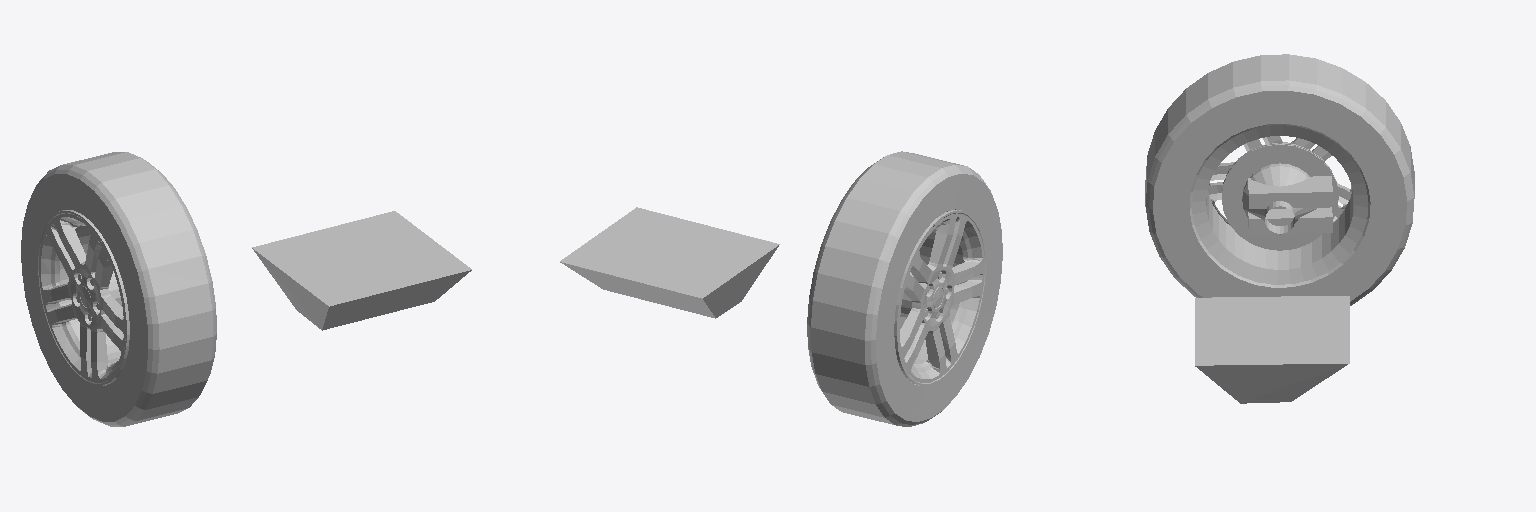
File: BackRight_Truck.obj
The picture shows the model from 3 angles: view 1: azimuth 30°, elevation 25°; view 2: azimuth 150°, elevation 25°; view 3: azimuth 270°, elevation 25°; orthographic projection.
Parts seen in each view (by area): view 1: HintenRechts_uploads_files_862940_silverado.005; view 2: HintenRechts_uploads_files_862940_silverado.005; view 3: HintenRechts_uploads_files_862940_silverado.005.
Part boxes in pixels (bbox=[...]): HintenRechts_uploads_files_862940_silverado.005: bbox=[21, 152, 471, 426]; HintenRechts_uploads_files_862940_silverado.005: bbox=[560, 151, 1002, 426]; HintenRechts_uploads_files_862940_silverado.005: bbox=[1145, 54, 1414, 403].
Bounding box in the file's own units: 130 × 86.99 × 87.09.